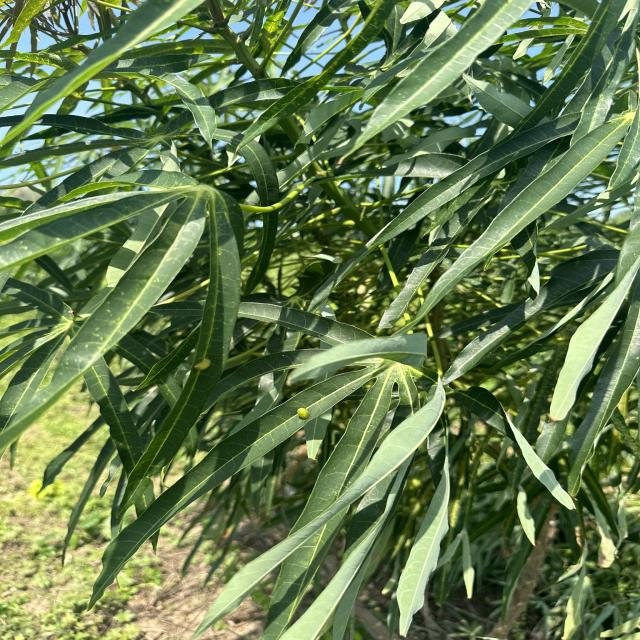Mosca: (285, 390, 330, 426), (180, 338, 222, 376)
